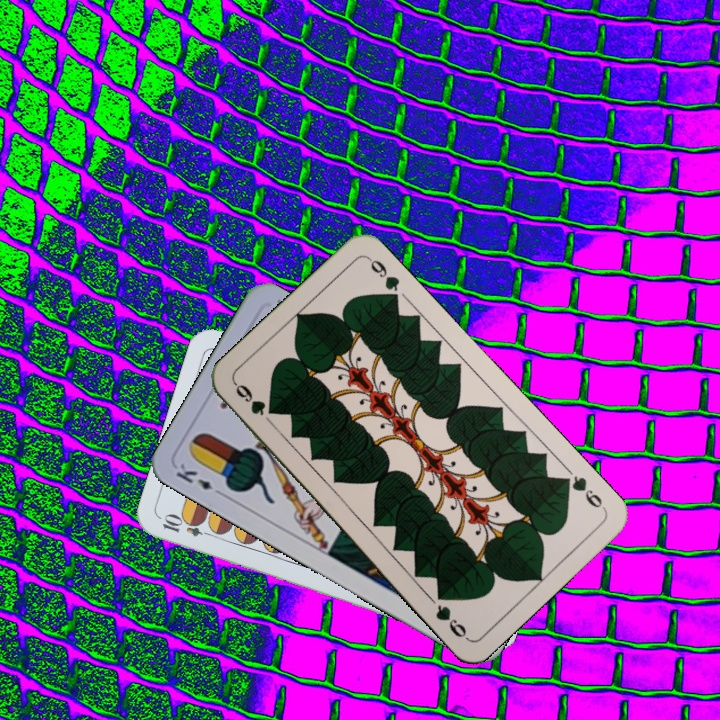E10: (158, 512, 217, 540)
EK: (171, 459, 227, 499)
G9: (230, 379, 275, 427), (556, 472, 608, 512)
